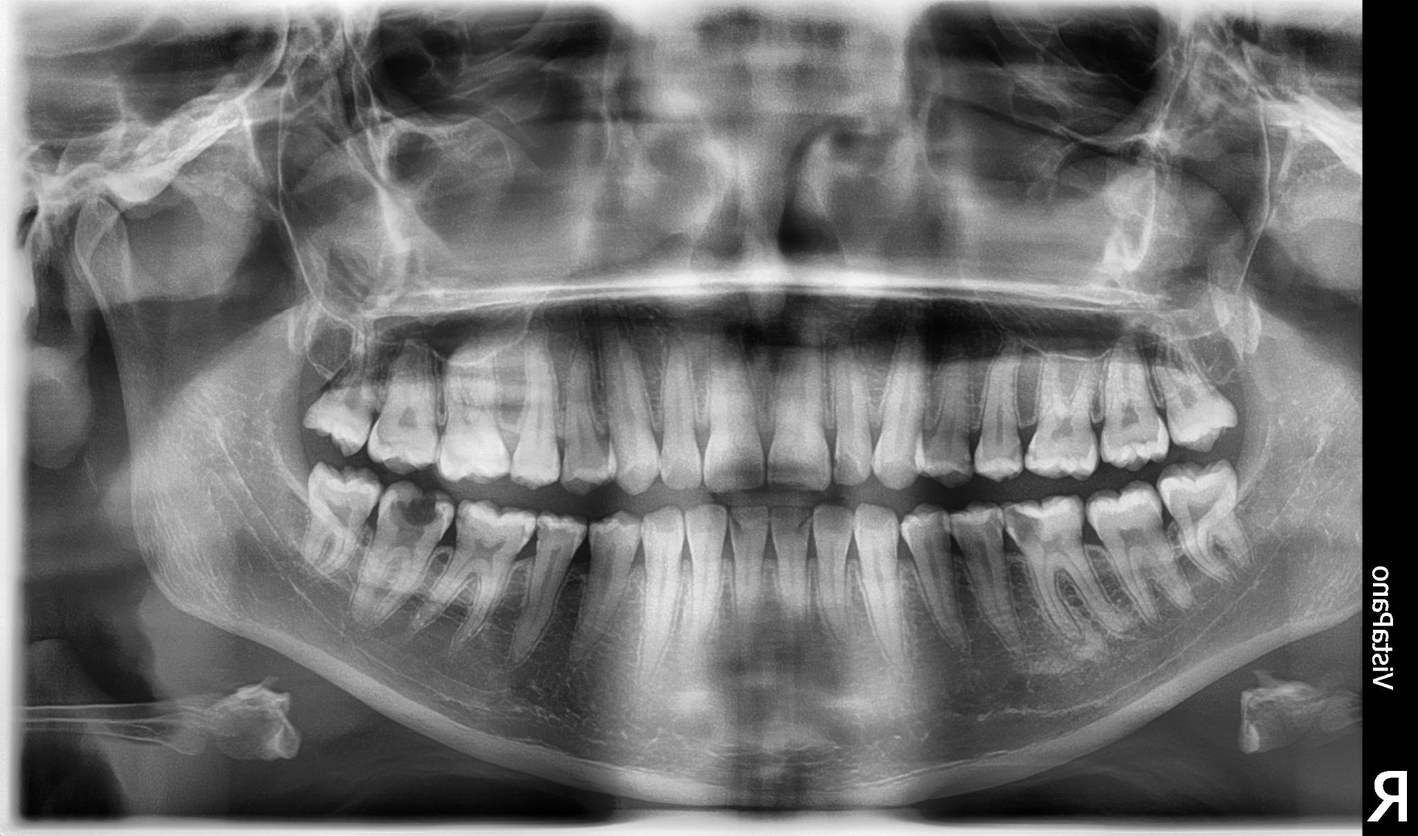Premolars: (511, 253, 1418, 746), (544, 246, 1418, 738), (486, 256, 1418, 711), (512, 203, 1418, 548), (546, 236, 1418, 591), (445, 259, 1309, 607), (282, 247, 820, 760), (277, 264, 801, 764), (215, 238, 601, 723)
